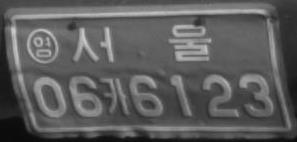0: (32, 75, 67, 119)
1: (165, 74, 198, 116)
2: (202, 73, 239, 118)
3: (239, 72, 274, 118)
6: (67, 74, 103, 118), (130, 73, 163, 117)
서울_D: (71, 23, 211, 62)
영: (26, 28, 59, 64)
카: (103, 76, 130, 116)
